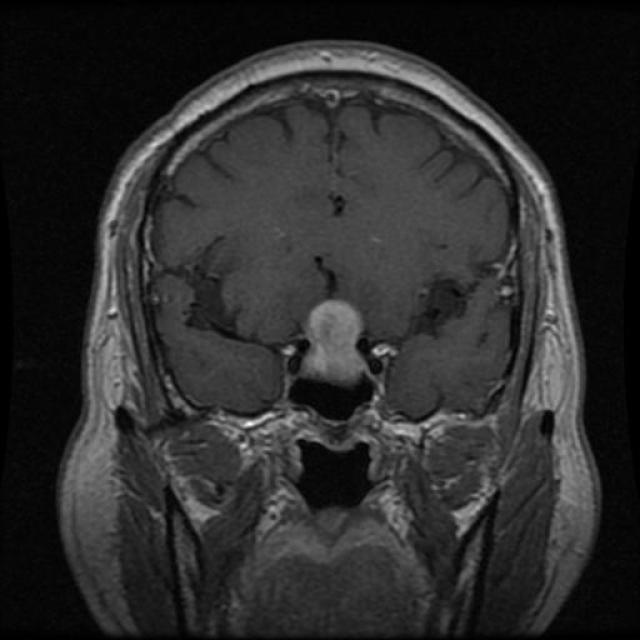pituitary: (300, 293, 368, 390)
